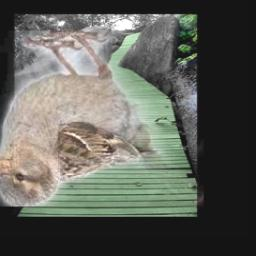Sparrow: (0, 31, 204, 207)
